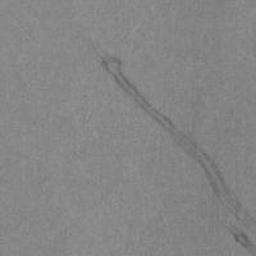Water spot: (91, 38, 256, 255)
